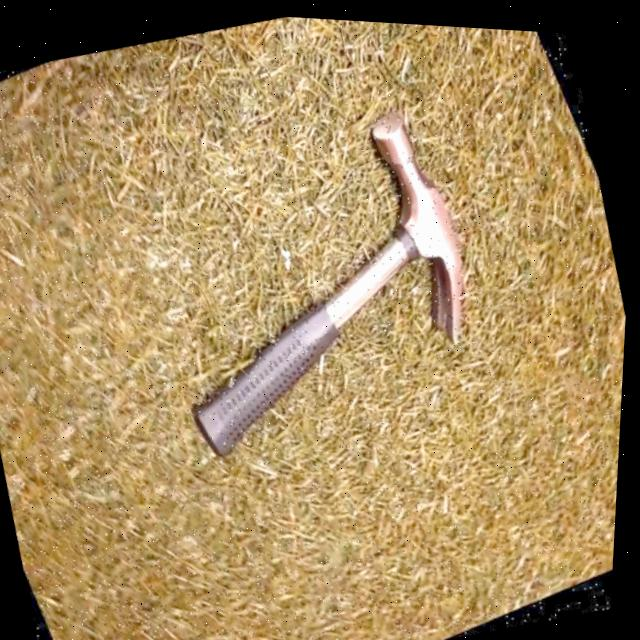hammer: (129, 74, 508, 477)
